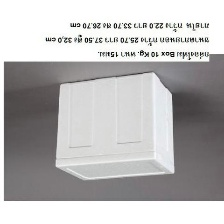foam_box: (50, 67, 179, 186)
